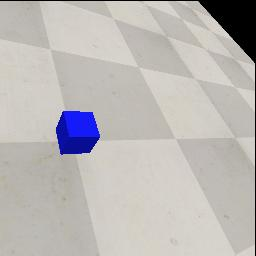box: (56, 111, 100, 155)
